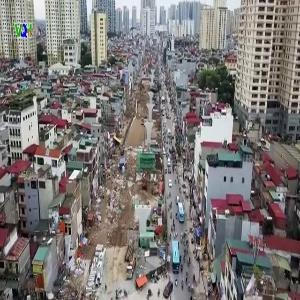drone: (135, 73, 174, 112)
